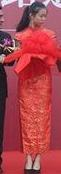boots: (0, 163, 8, 173), (0, 165, 6, 173)
